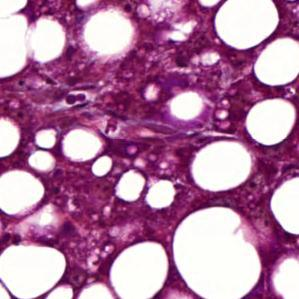steatosis: (215, 0, 281, 50), (245, 97, 296, 146), (271, 173, 299, 233), (144, 180, 178, 211)
